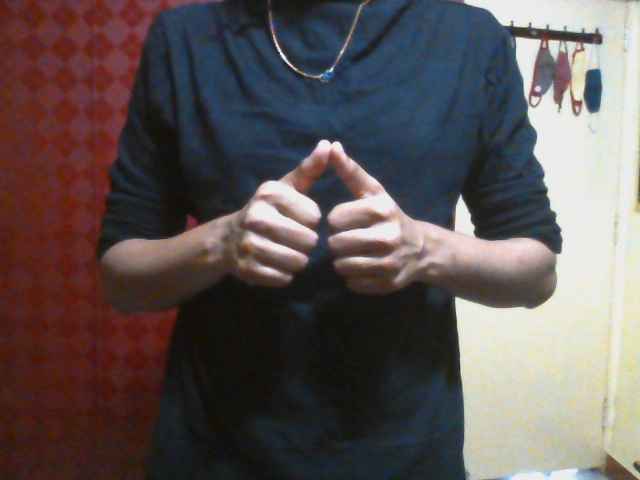A: (227, 138, 418, 296)
